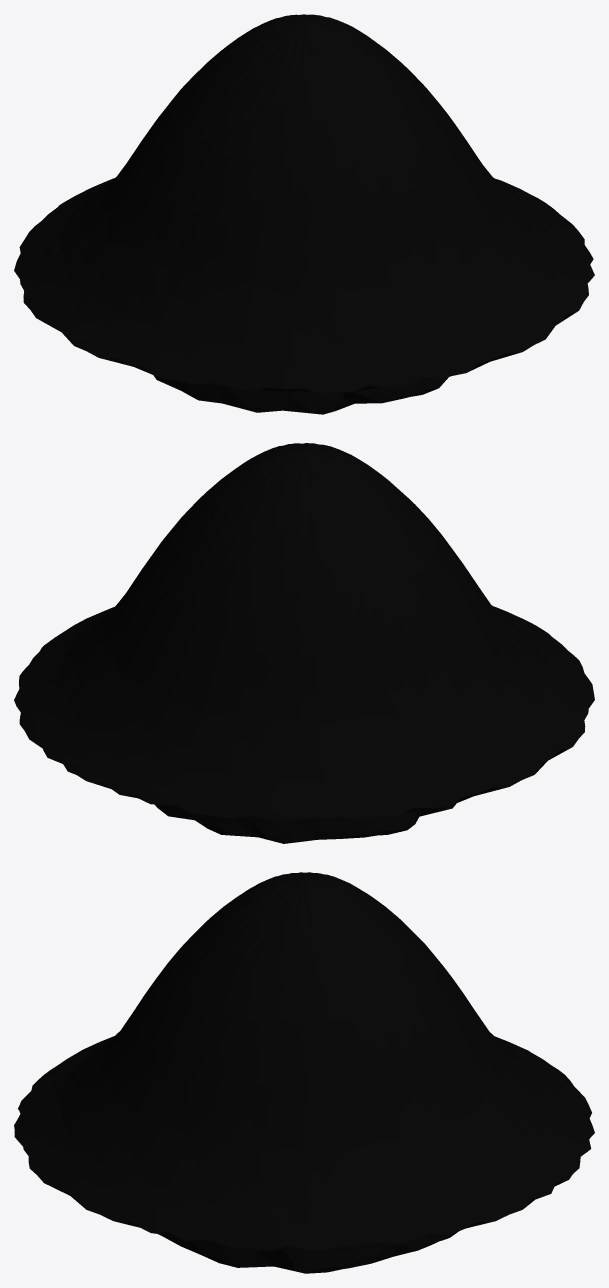
The model's file is Mushroom Cap2 .fbx.
3 views of the same model, one above another, from view 1: azimuth 30°, elevation 25°; view 2: azimuth 150°, elevation 25°; view 3: azimuth 270°, elevation 25° (orthographic).
Parts seen in each view (by area): view 1: Mushroom Cap Stage 2, Mushroom Cap Stage 1; view 2: Mushroom Cap Stage 2, Mushroom Cap Stage 1; view 3: Mushroom Cap Stage 2, Mushroom Cap Stage 1.
Boxes of the visible parts, left/top/right/bottom form: Mushroom Cap Stage 2: left=14, top=14, right=594, bottom=393; Mushroom Cap Stage 1: left=153, top=14, right=448, bottom=414; Mushroom Cap Stage 2: left=14, top=443, right=594, bottom=822; Mushroom Cap Stage 1: left=154, top=447, right=456, bottom=843; Mushroom Cap Stage 2: left=14, top=872, right=594, bottom=1251; Mushroom Cap Stage 1: left=158, top=872, right=458, bottom=1273.
Bounding box in the file's own units: 191 × 118 × 192.
